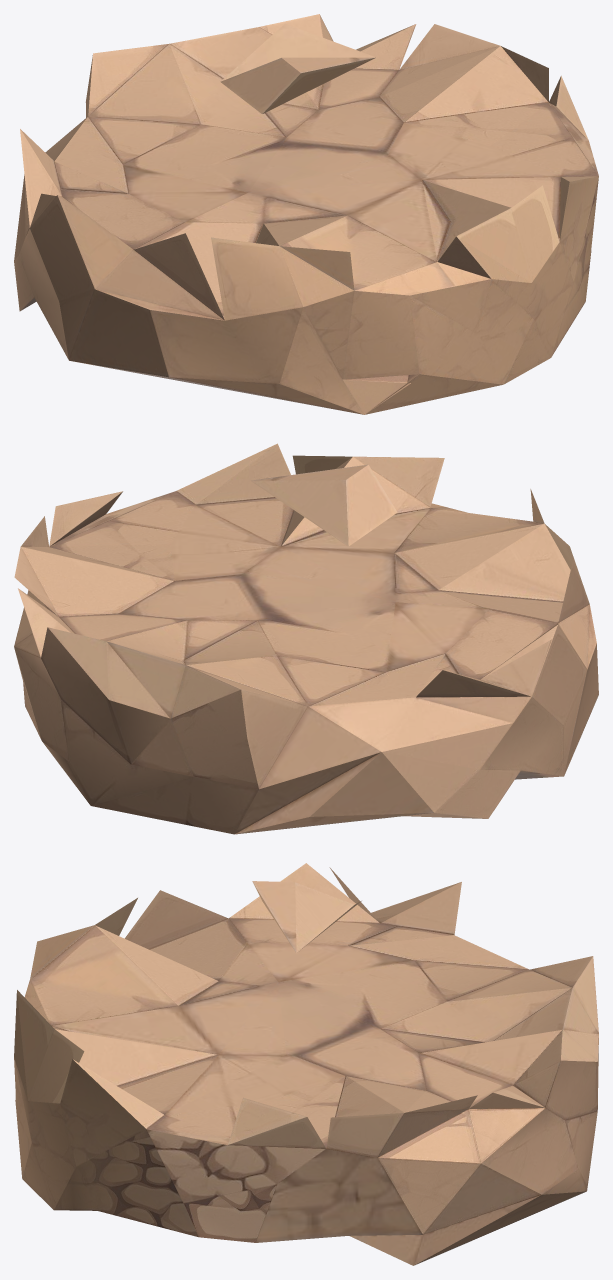
The model's file is parede-baixa.glb.
3 views of the same model, one above another, from view 1: azimuth 30°, elevation 25°; view 2: azimuth 150°, elevation 25°; view 3: azimuth 270°, elevation 25° (orthographic).
Size of the model in its own units: 1.88 by 0.8849 by 1.85.
Materials: 1 (1 with a texture image).
